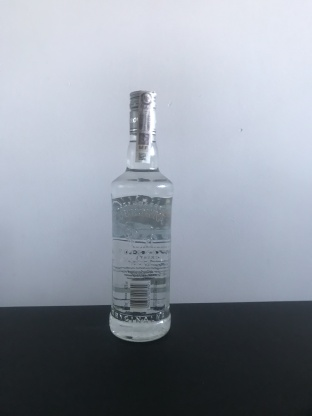nakretka: (126, 86, 159, 137)
